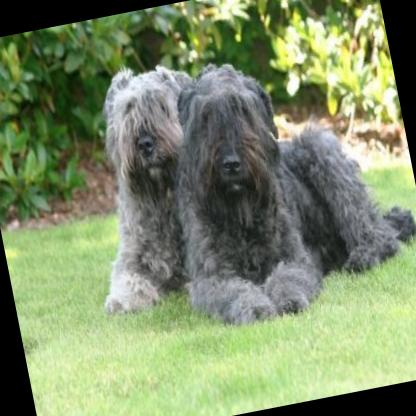Bouvier_des_Flandres: (140, 25, 416, 332), (56, 54, 234, 322)
